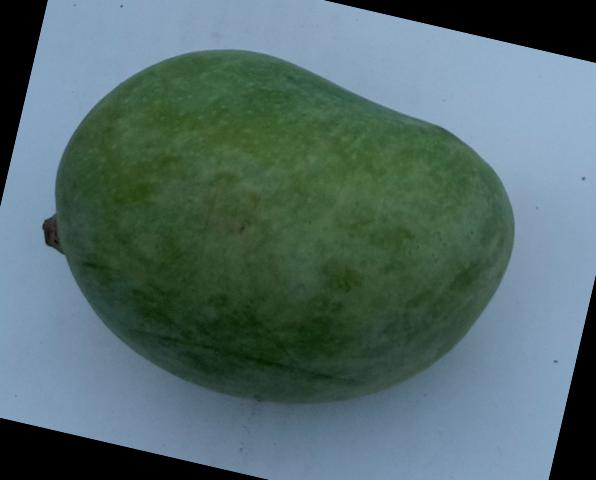Mango Unripe: (0, 0, 560, 473)
